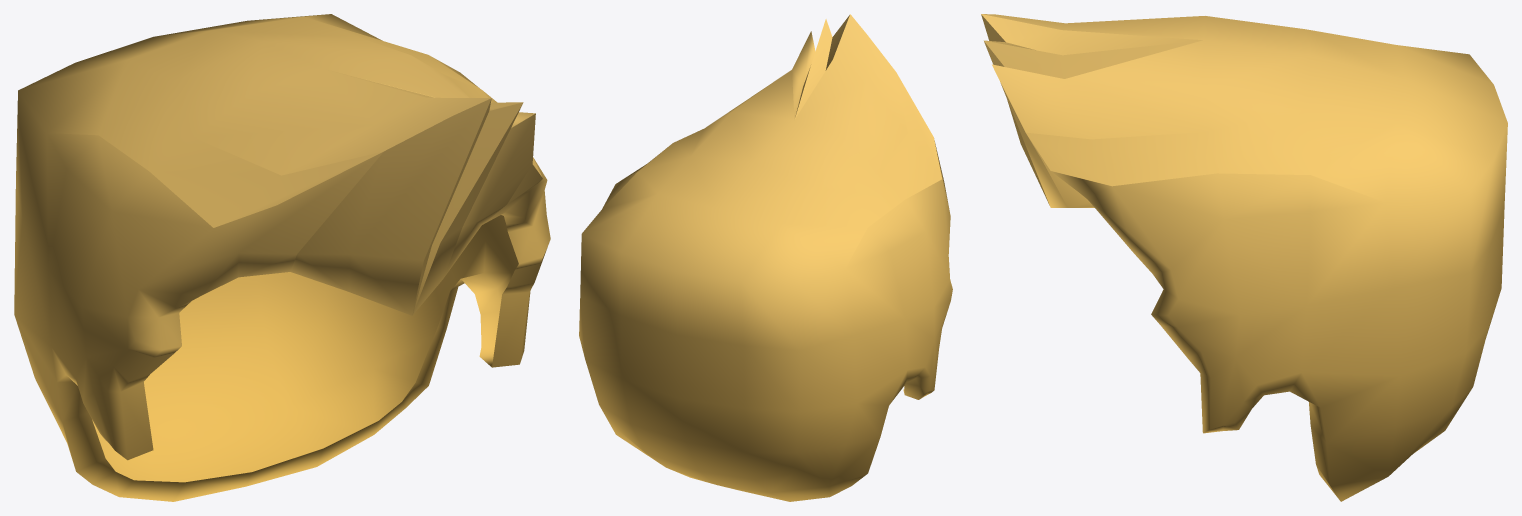
Rendered from Hair_Yellow_3.fbx.
3 renders of one model, left to right at view 1: azimuth 30°, elevation 25°; view 2: azimuth 150°, elevation 25°; view 3: azimuth 270°, elevation 25°, orthographic. The views are drawn at different scales.
Parts seen in each view (by area): view 1: Hair_Yellow_3; view 2: Hair_Yellow_3; view 3: Hair_Yellow_3.
Part boxes in pixels (x1,y1,x2,y2): Hair_Yellow_3: (14,14,550,501); Hair_Yellow_3: (579,14,952,501); Hair_Yellow_3: (981,14,1507,501).
Bounding box in the file's own units: 53.25 × 60.55 × 61.45.
